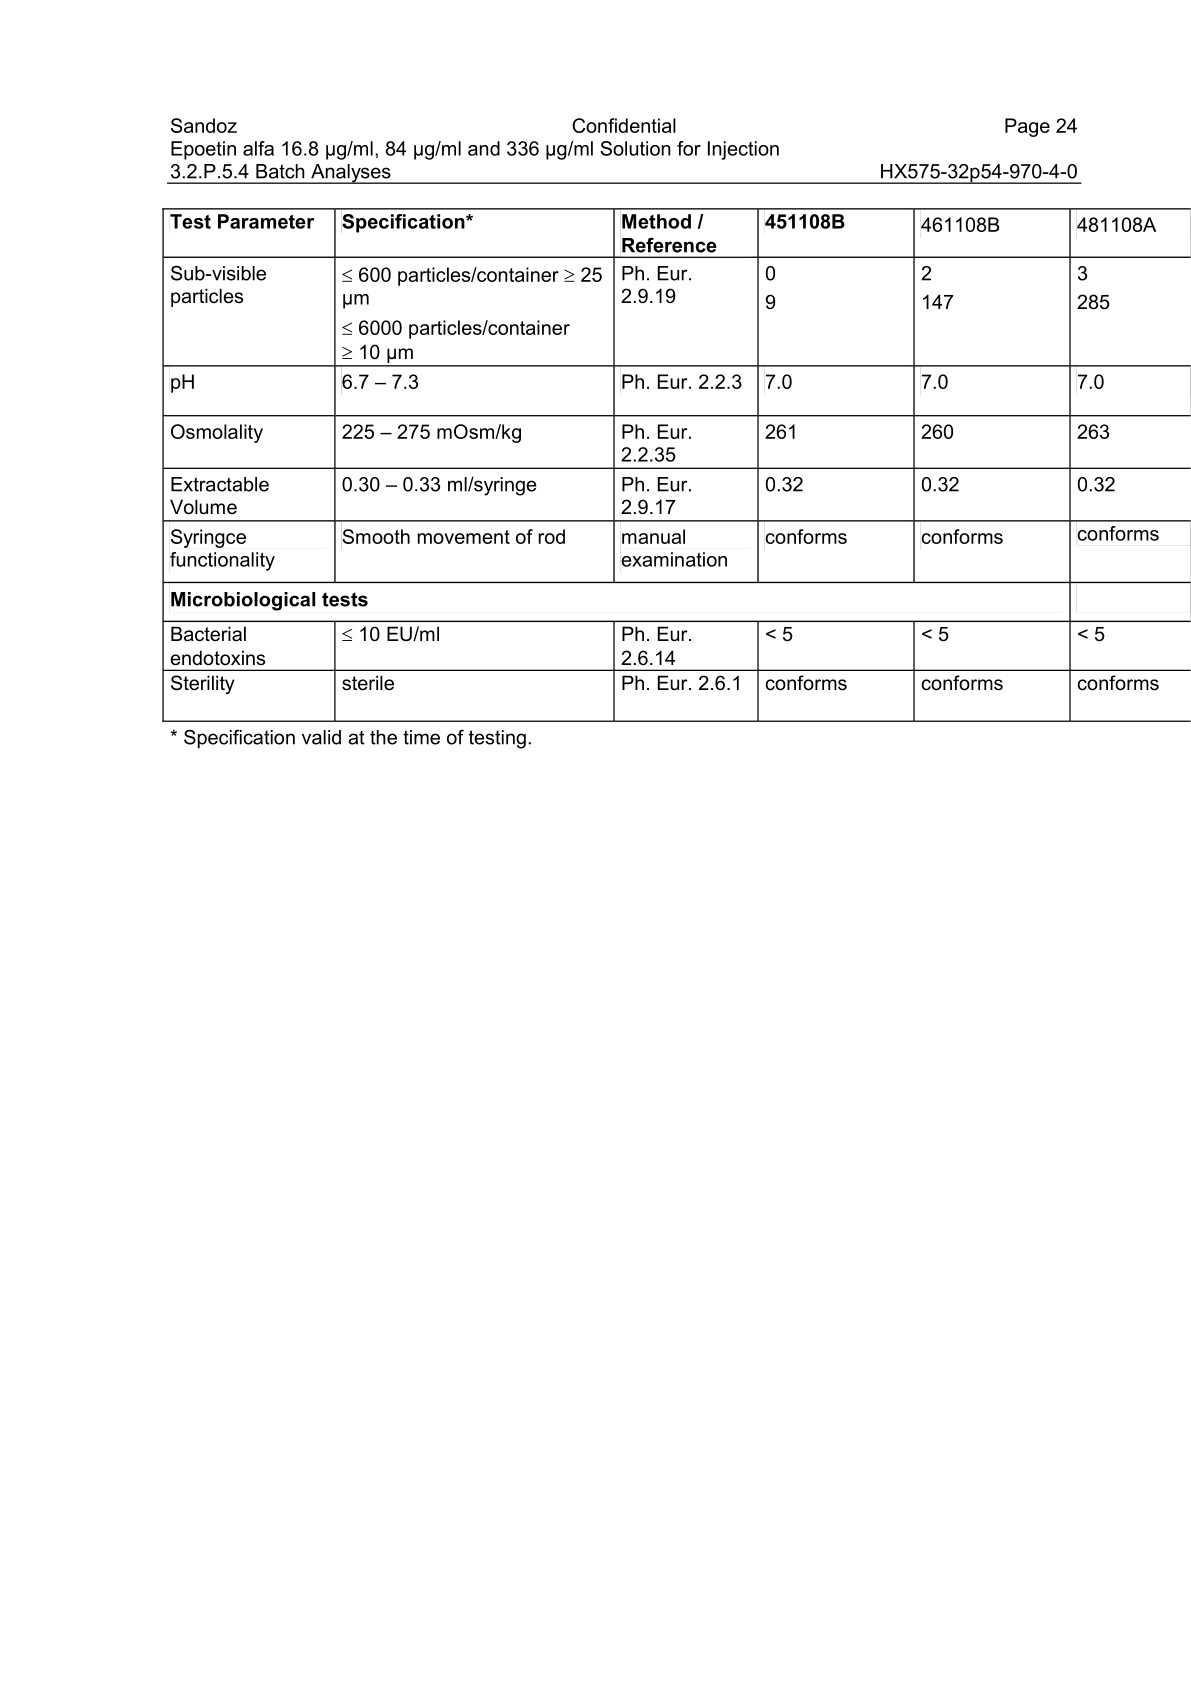merged_cells: (161, 207, 1191, 723)
